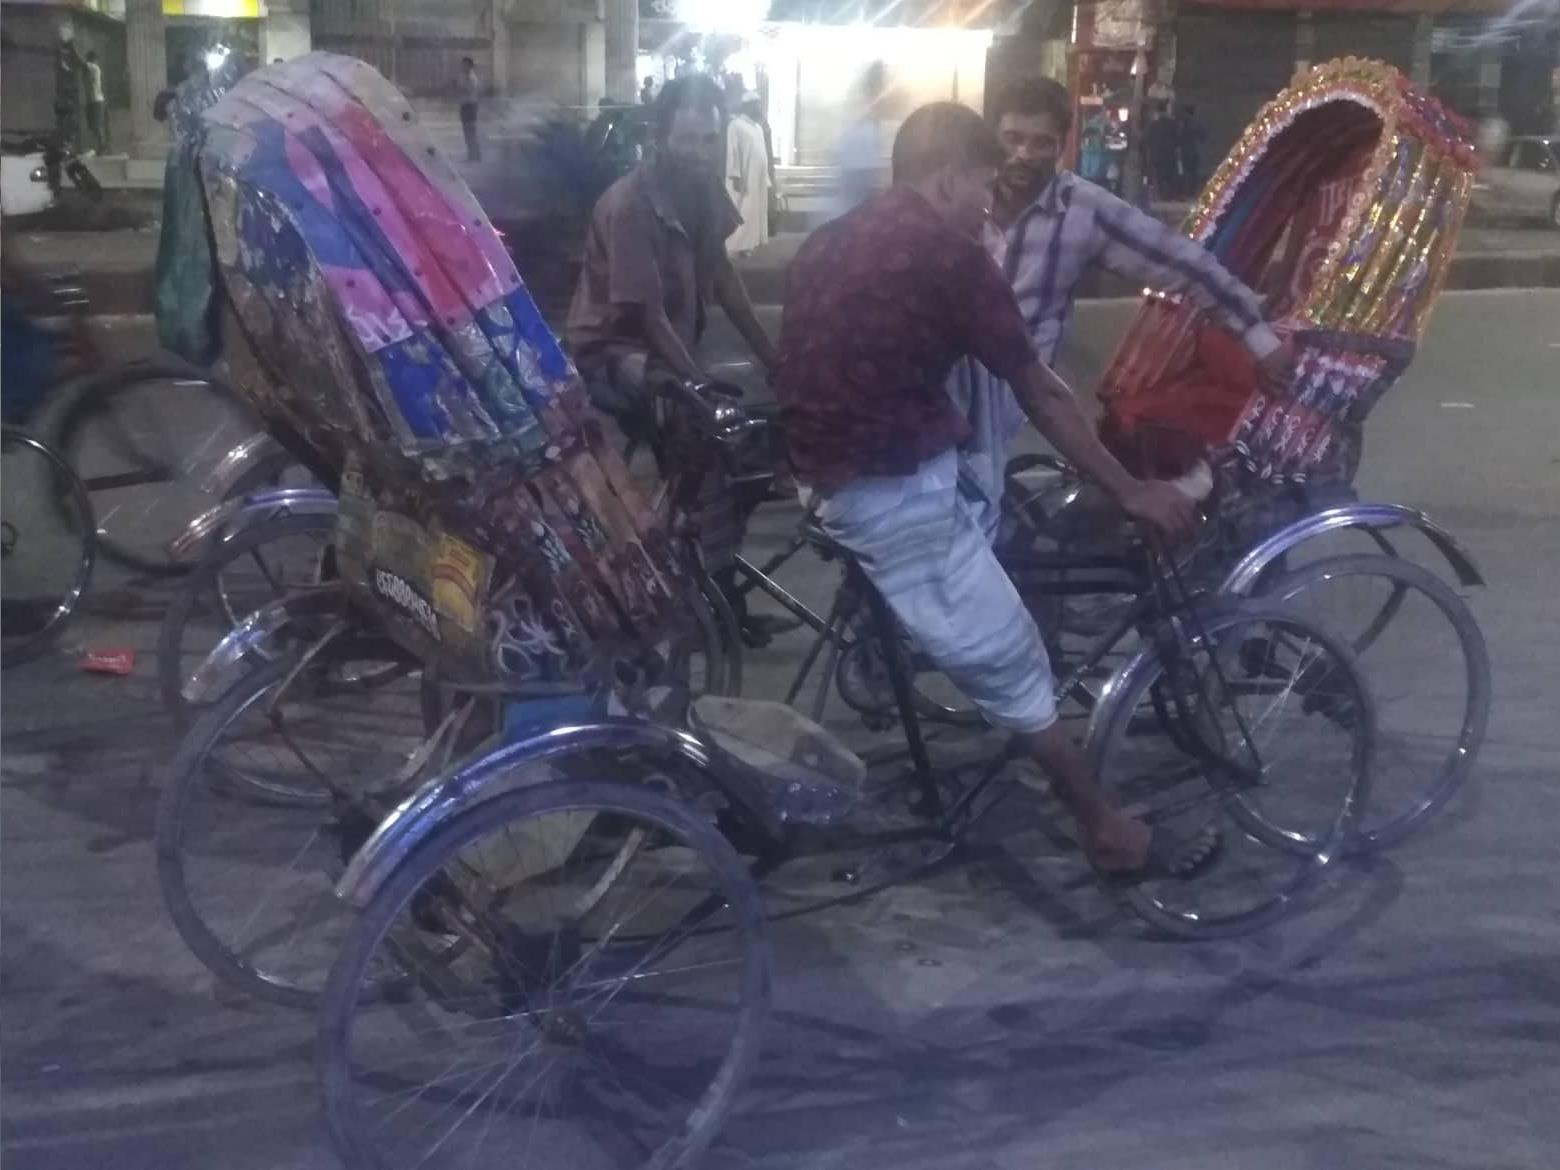Rickshaw: (162, 44, 1320, 1059), (1106, 59, 1523, 887)
